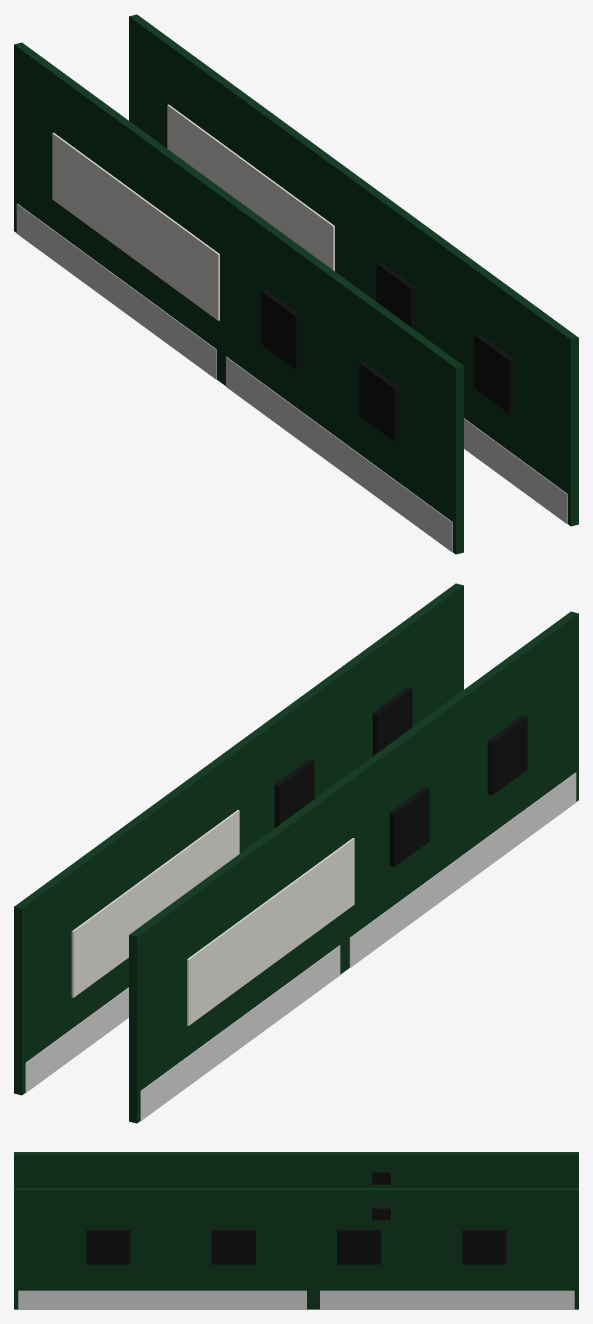
The model's file is hw_ram_ddr2_2gb.glb.
3 renders of one model, top to bottom at view 1: azimuth 30°, elevation 25°; view 2: azimuth 150°, elevation 25°; view 3: azimuth 270°, elevation 25°, orthographic. The views are drawn at different scales.
Parts seen in each view (by area): view 1: Stick_1, Body; view 2: Stick_1, Body; view 3: Body, Stick_1.
Part boxes in pixels (x1=…): Stick_1: x1=14, y1=42, x2=463, y2=554; Body: x1=129, y1=14, x2=578, y2=526; Stick_1: x1=129, y1=611, x2=578, y2=1123; Body: x1=14, y1=583, x2=463, y2=1095; Body: x1=14, y1=1188, x2=578, y2=1309; Stick_1: x1=14, y1=1152, x2=578, y2=1187.
Size of the model in its own units: 0.0234 by 0.031 by 0.133.
